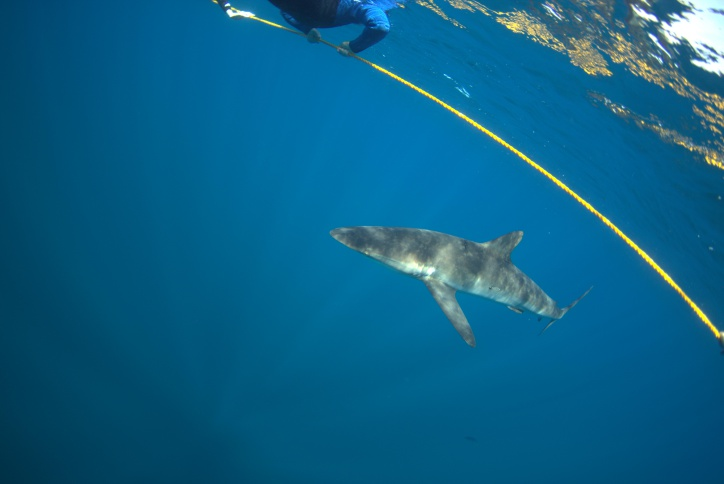Sedoso: (321, 211, 601, 356)
